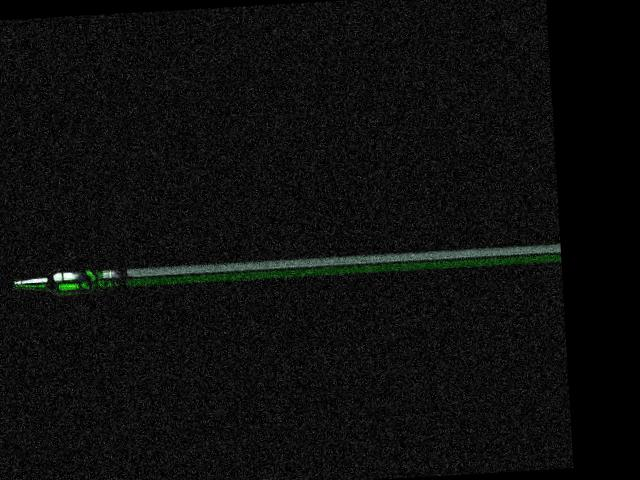beer: (13, 268, 113, 298)
